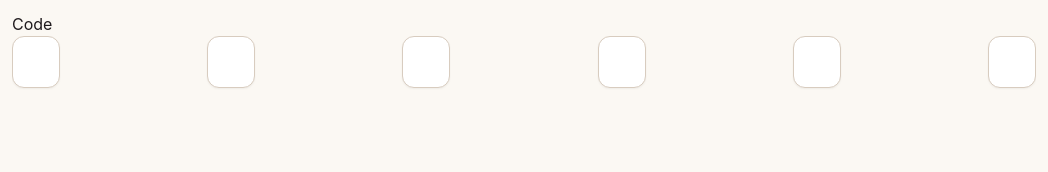
Test case: OTP boxes (D-89) › six labelled boxes; typing moves focus forward; never submits by itself
Step 1. Click the field named "Digit 1 of 6" → (36, 62), box [12,36,60,88]
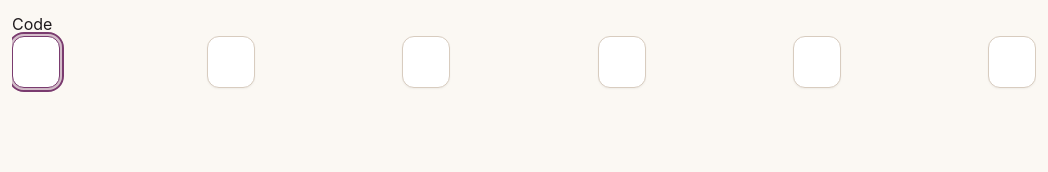
Step 2. Type keys "123456"
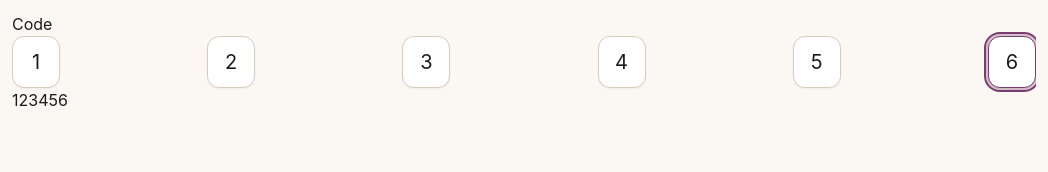
Now the text with test id "value" reads "123456", box [12,90,68,110]
